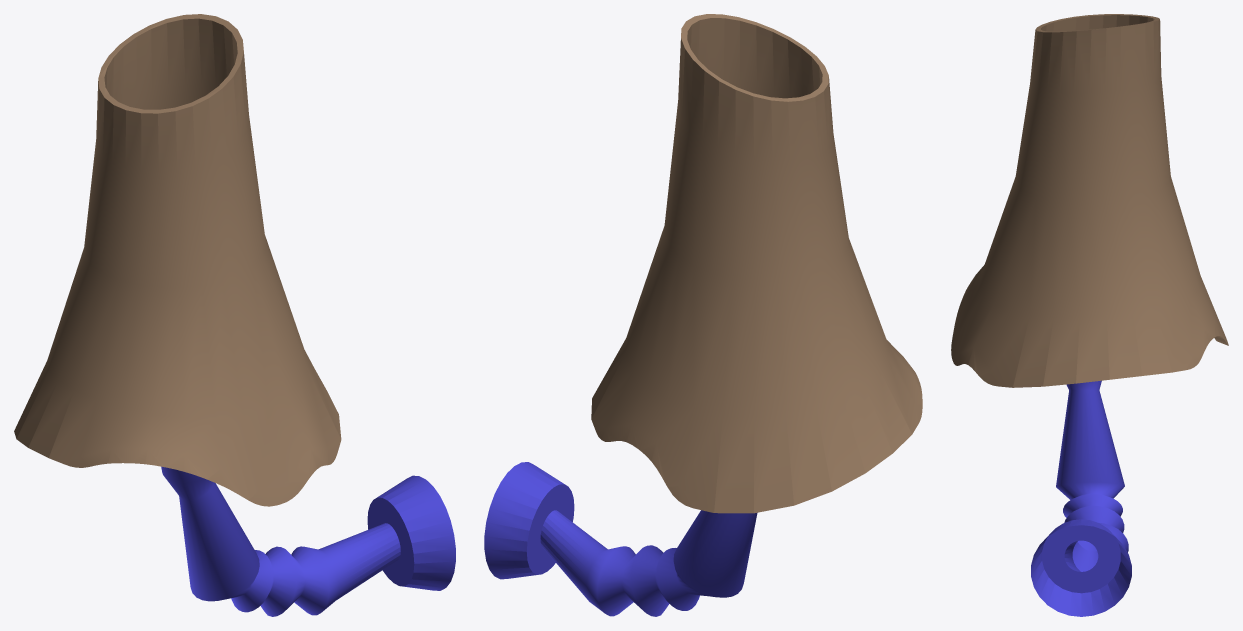
The model's file is SM_LampeMurale_low.fbx.
The picture shows the model from 3 angles, left to right: view 1: azimuth 30°, elevation 25°; view 2: azimuth 150°, elevation 25°; view 3: azimuth 270°, elevation 25°; orthographic projection. The views are drawn at different scales.
Parts seen in each view (by area): view 1: SM_LampeMurale_low; view 2: SM_LampeMurale_low; view 3: SM_LampeMurale_low.
Part boxes in pixels (x1,y1,x2,y2): SM_LampeMurale_low: (14,14,455,616); SM_LampeMurale_low: (484,14,922,616); SM_LampeMurale_low: (951,14,1228,616).
Size of the model in its own units: 141 by 212 by 103.
